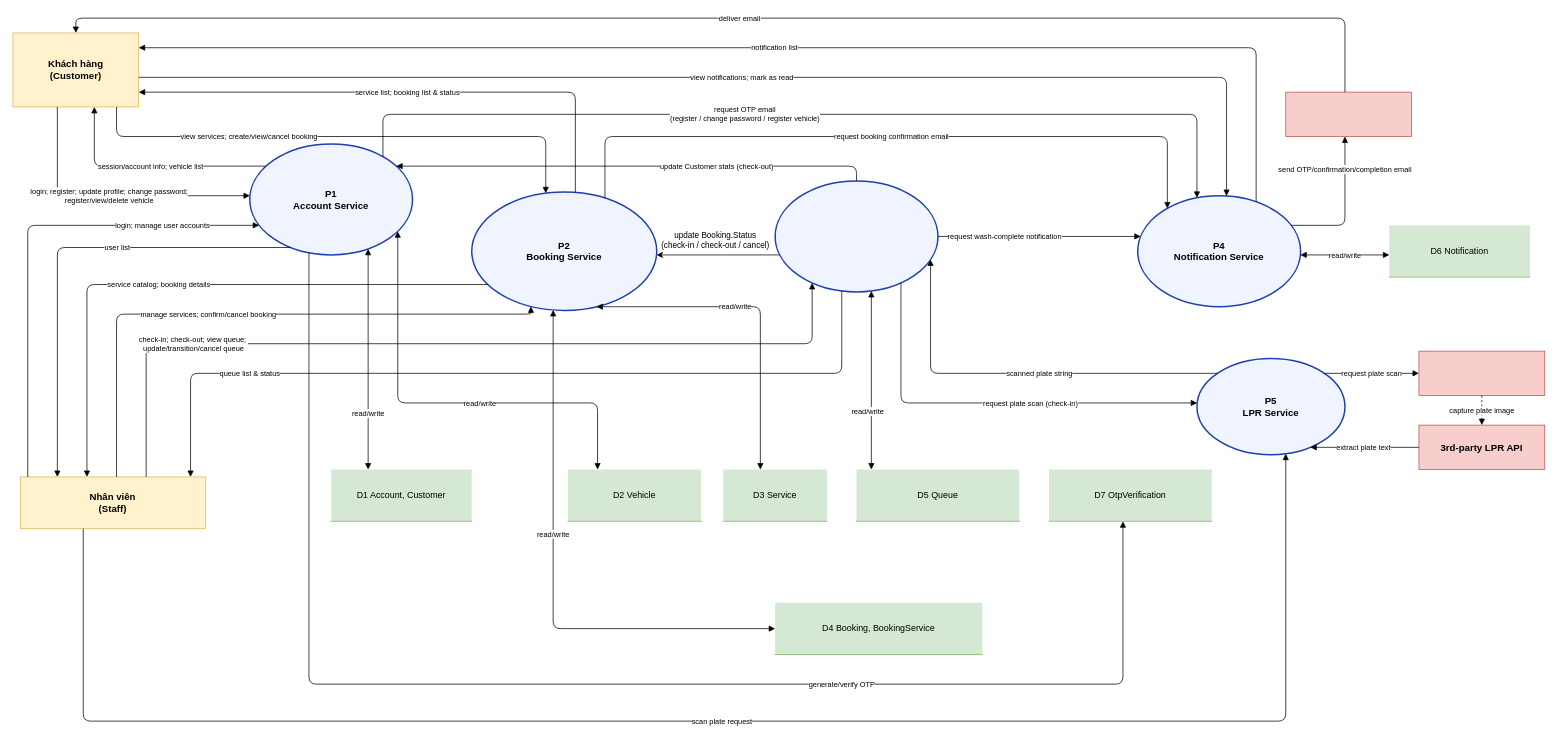
The diagram is 1558 pixels wide and 740 high, and some of its shapes have lost their labels. The centre of each missing label's shape, as x and y in pixels:
Camera LPR: the point at 1481,373
Email SMTP: the point at 1348,114
P3 Queue Service: the point at 856,236
